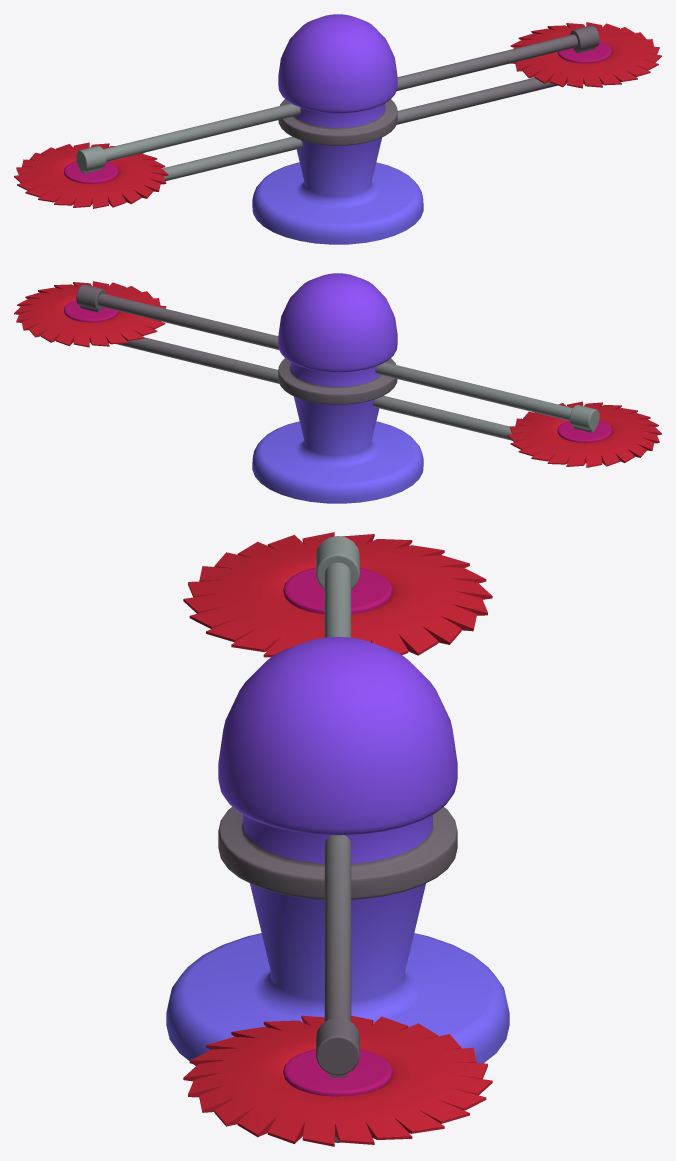
Rendered from Obs_01.fbx.
The picture shows the model from 3 angles, top to bottom: view 1: azimuth 30°, elevation 25°; view 2: azimuth 150°, elevation 25°; view 3: azimuth 270°, elevation 25°; orthographic projection. The views are drawn at different scales.
Visible parts, largest first — view 1: Obs_01_Base, Obs_01_Column_Root, Obs_01_Saw_Root_Right, Obs_01_Saw_Root_Left; view 2: Obs_01_Base, Obs_01_Column_Root, Obs_01_Saw_Root_Right, Obs_01_Saw_Root_Left; view 3: Obs_01_Base, Obs_01_Saw_Root_Left, Obs_01_Saw_Root_Right, Obs_01_Column_Root.
Boxes of the visible parts, left/top/right/bottom form: Obs_01_Base: left=252, top=14, right=423, bottom=244; Obs_01_Column_Root: left=76, top=25, right=599, bottom=180; Obs_01_Saw_Root_Right: left=14, top=142, right=168, bottom=208; Obs_01_Saw_Root_Left: left=510, top=22, right=661, bottom=88; Obs_01_Base: left=252, top=273, right=423, bottom=503; Obs_01_Column_Root: left=76, top=284, right=599, bottom=440; Obs_01_Saw_Root_Right: left=507, top=401, right=661, bottom=467; Obs_01_Saw_Root_Left: left=14, top=281, right=166, bottom=347; Obs_01_Base: left=166, top=637, right=509, bottom=1065; Obs_01_Saw_Root_Left: left=183, top=1015, right=492, bottom=1146; Obs_01_Saw_Root_Right: left=183, top=532, right=492, bottom=657; Obs_01_Column_Root: left=316, top=536, right=359, bottom=1142.
Bounding box in the file's own units: 3.55 × 1.01 × 0.8409.
